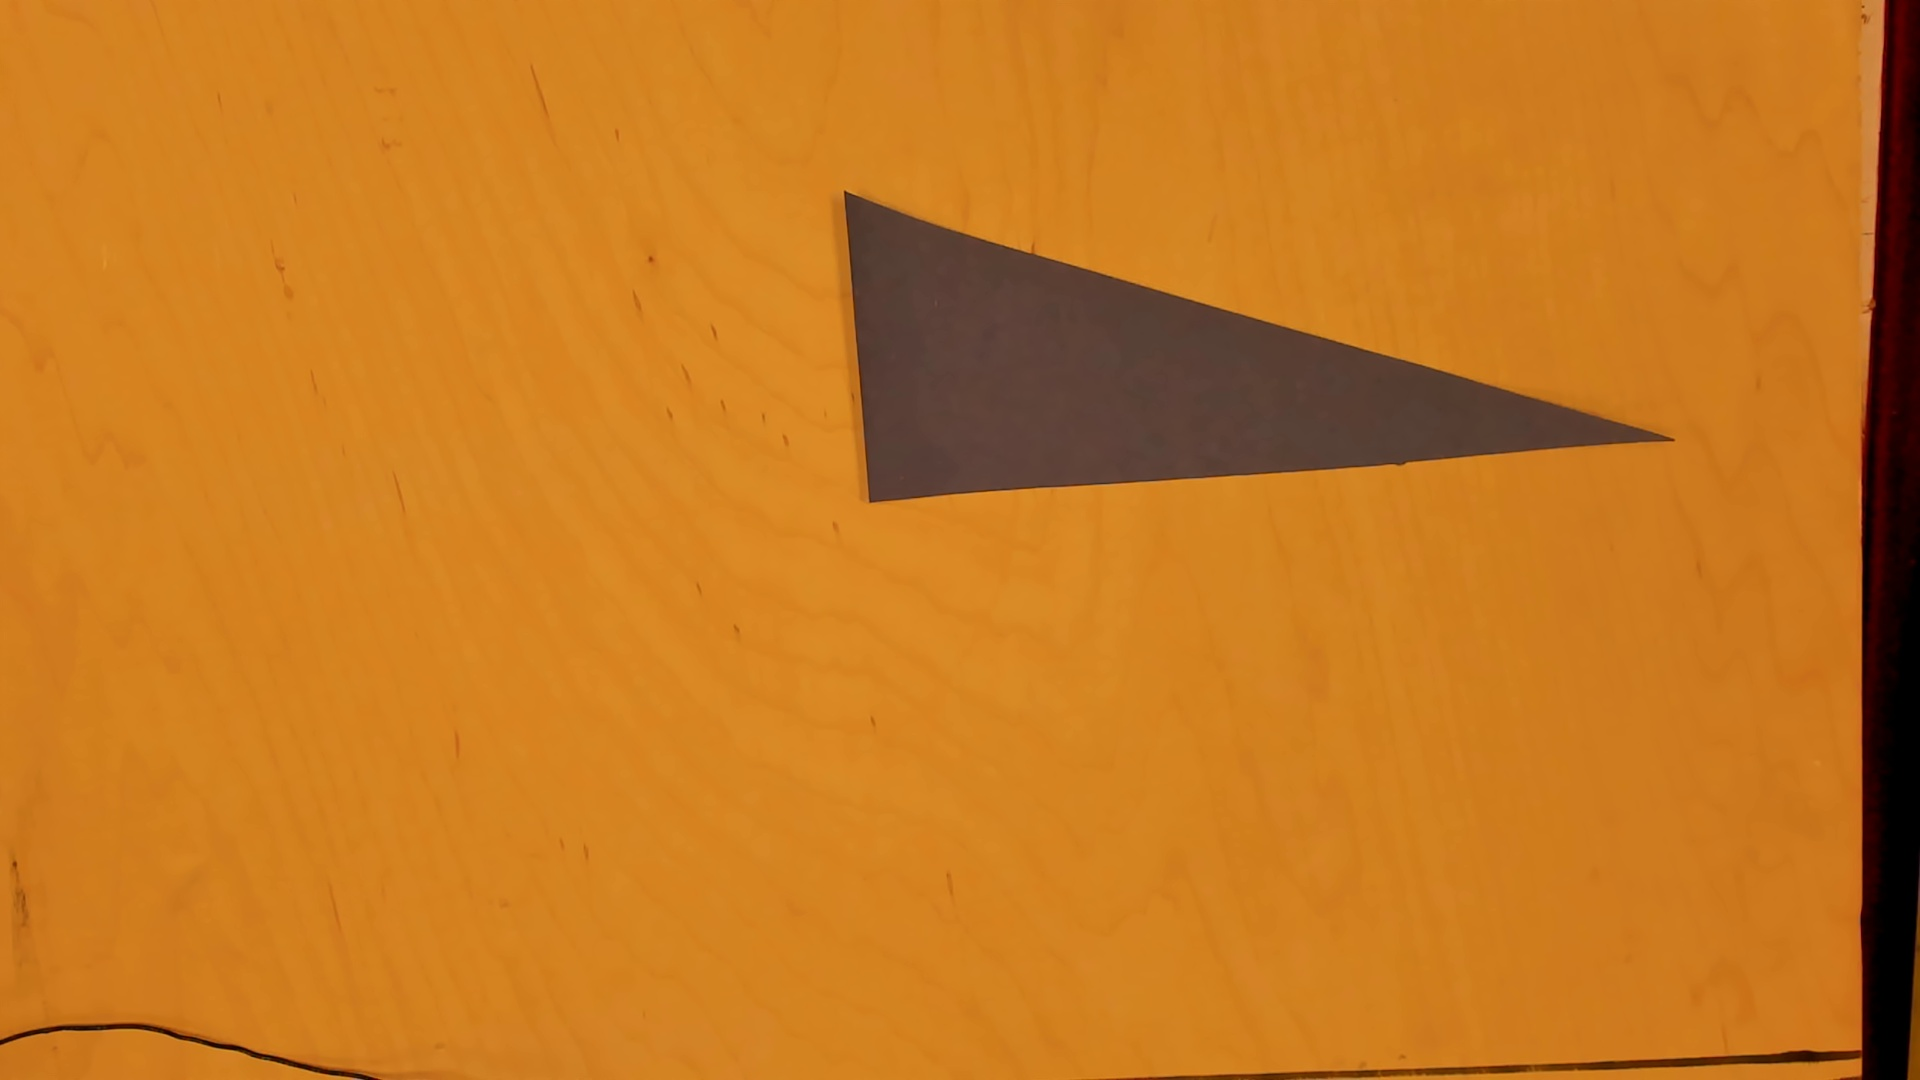PT: (840, 187, 1680, 514)
